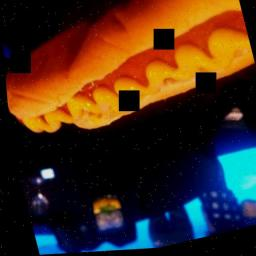hotdog: (137, 10, 251, 74), (9, 82, 130, 134), (89, 45, 197, 96)
